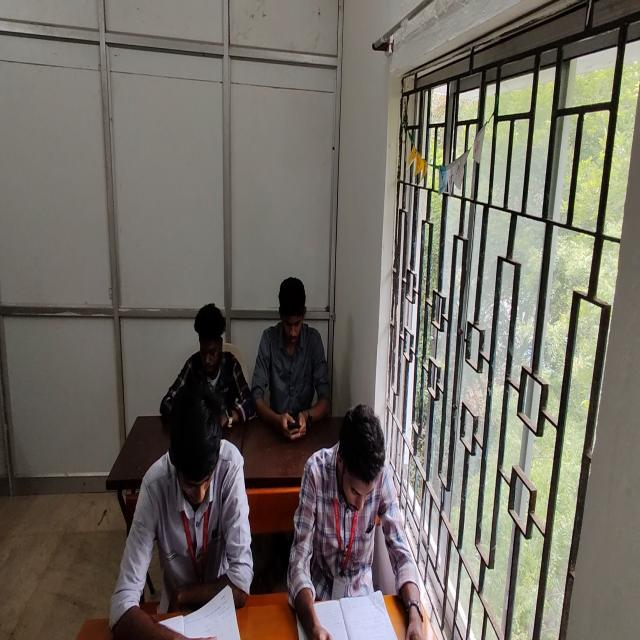reading: (278, 380, 445, 640), (101, 375, 263, 640)
using_mobile: (151, 275, 267, 448), (246, 255, 336, 447)
